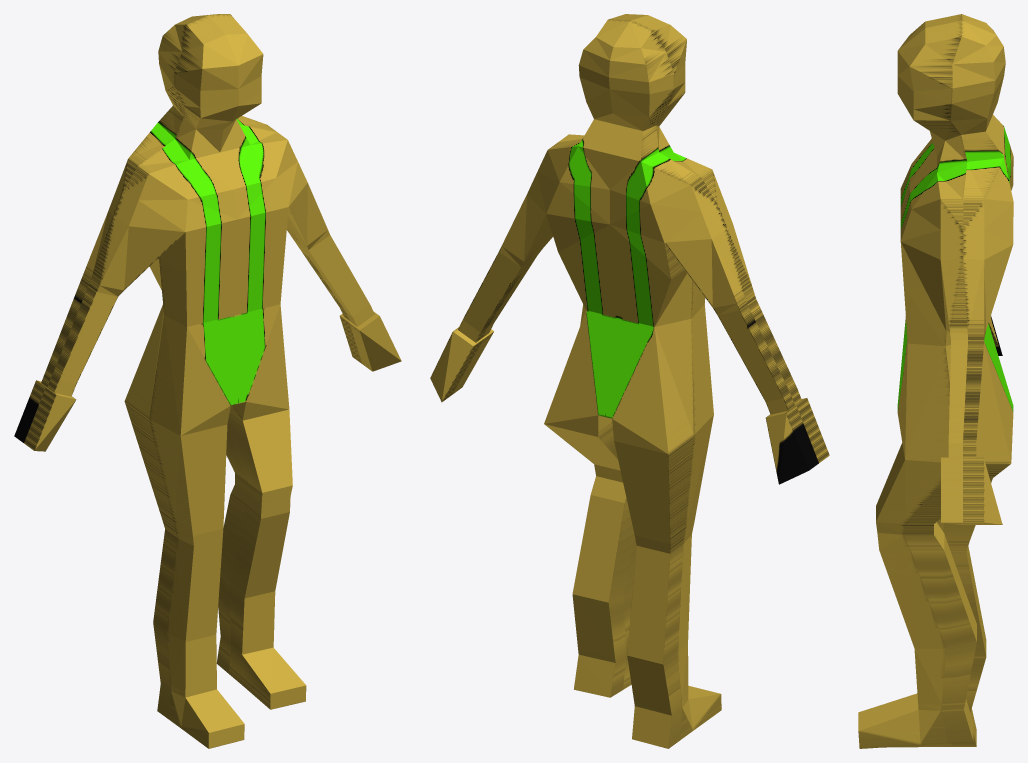
The picture shows the model from 3 angles, left to right: view 1: azimuth 30°, elevation 25°; view 2: azimuth 150°, elevation 25°; view 3: azimuth 270°, elevation 25°; orthographic projection. The views are drawn at different scales.
Visible parts, largest first — view 1: Borat; view 2: Borat; view 3: Borat.
Part boxes in pixels (box(x1,y1,x2,y2)): Borat: box(14, 14, 401, 748); Borat: box(430, 14, 829, 748); Borat: box(858, 14, 1013, 748).
Size of the model in its own units: 1.79 by 3.21 by 0.6177.
